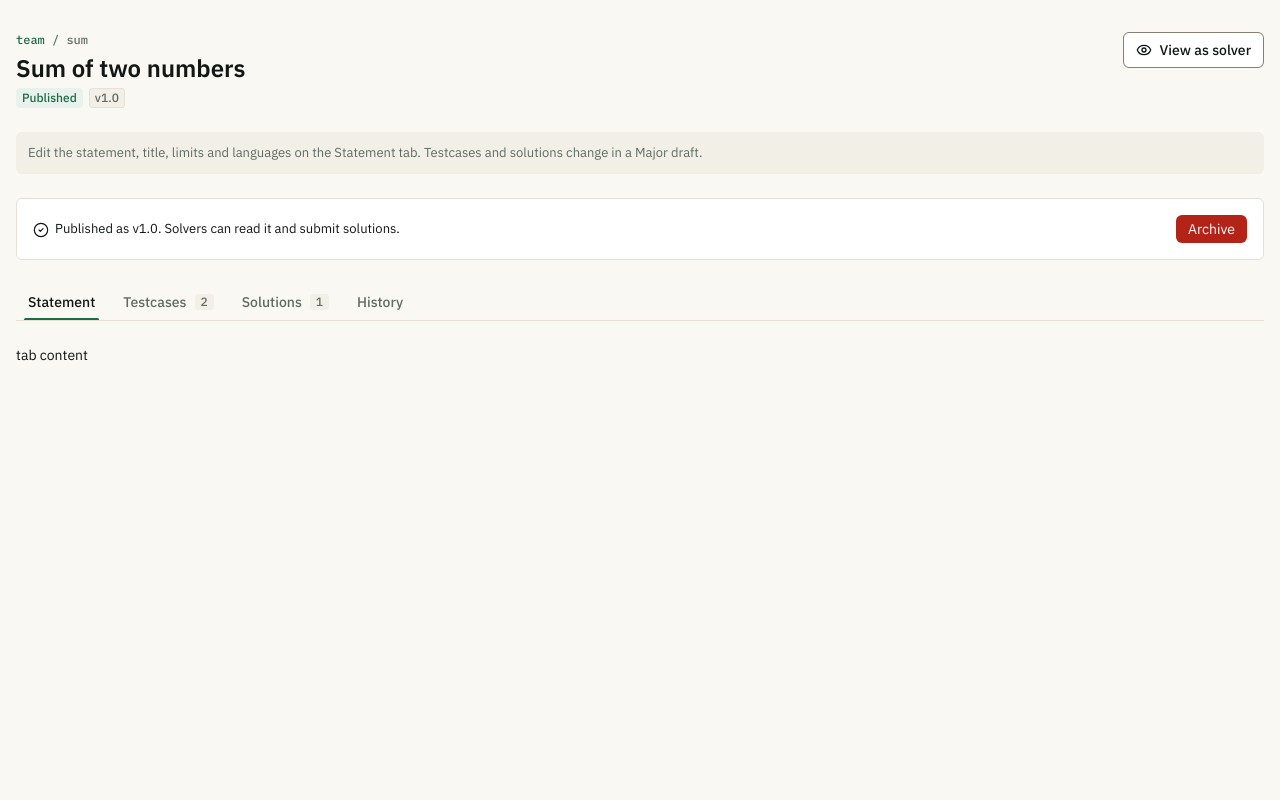
Test: publishing › archives a published problem after confirming
Step 1. Click the button "Archive" → (1212, 229), box [1176,215,1247,243]
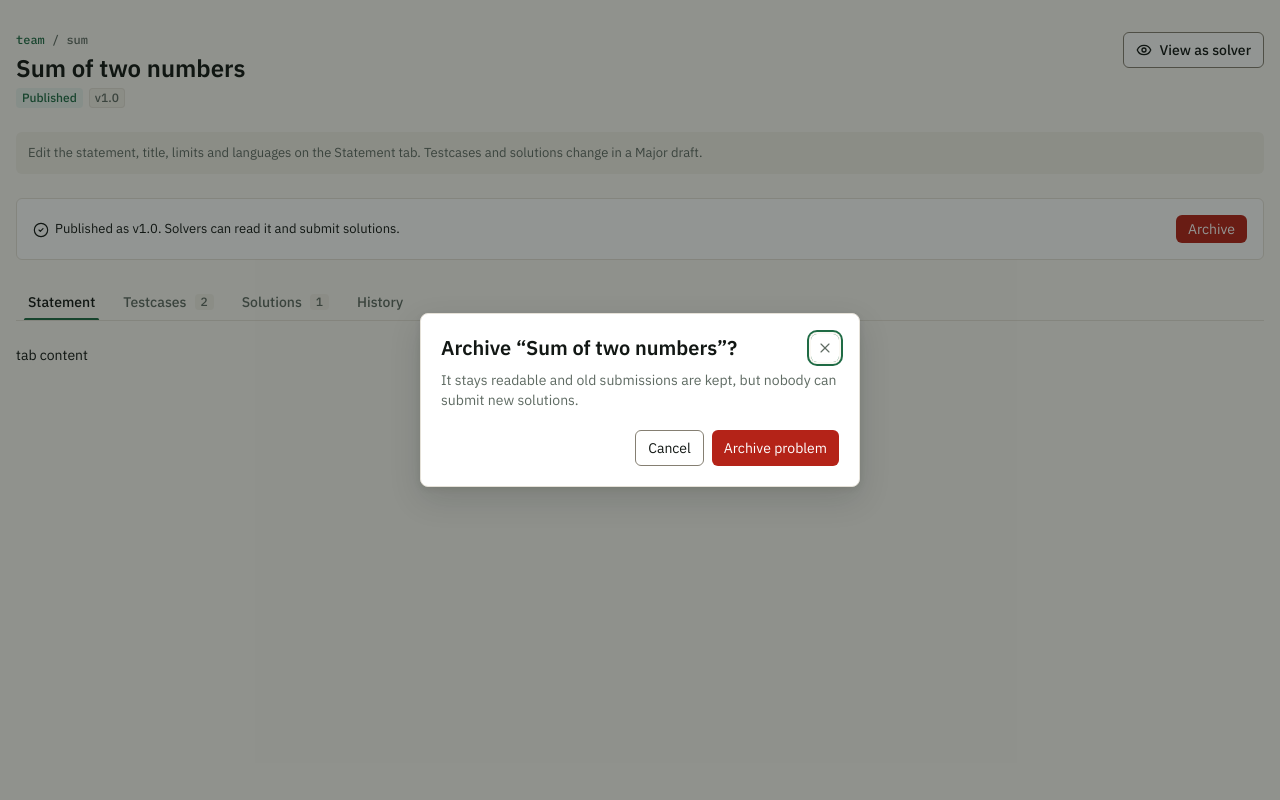
Expected: the text "nobody can submit new solutions" is shown, [441,371,836,409]
Step 2. Click the button "Archive problem" → (775, 448), box [712,430,839,466]
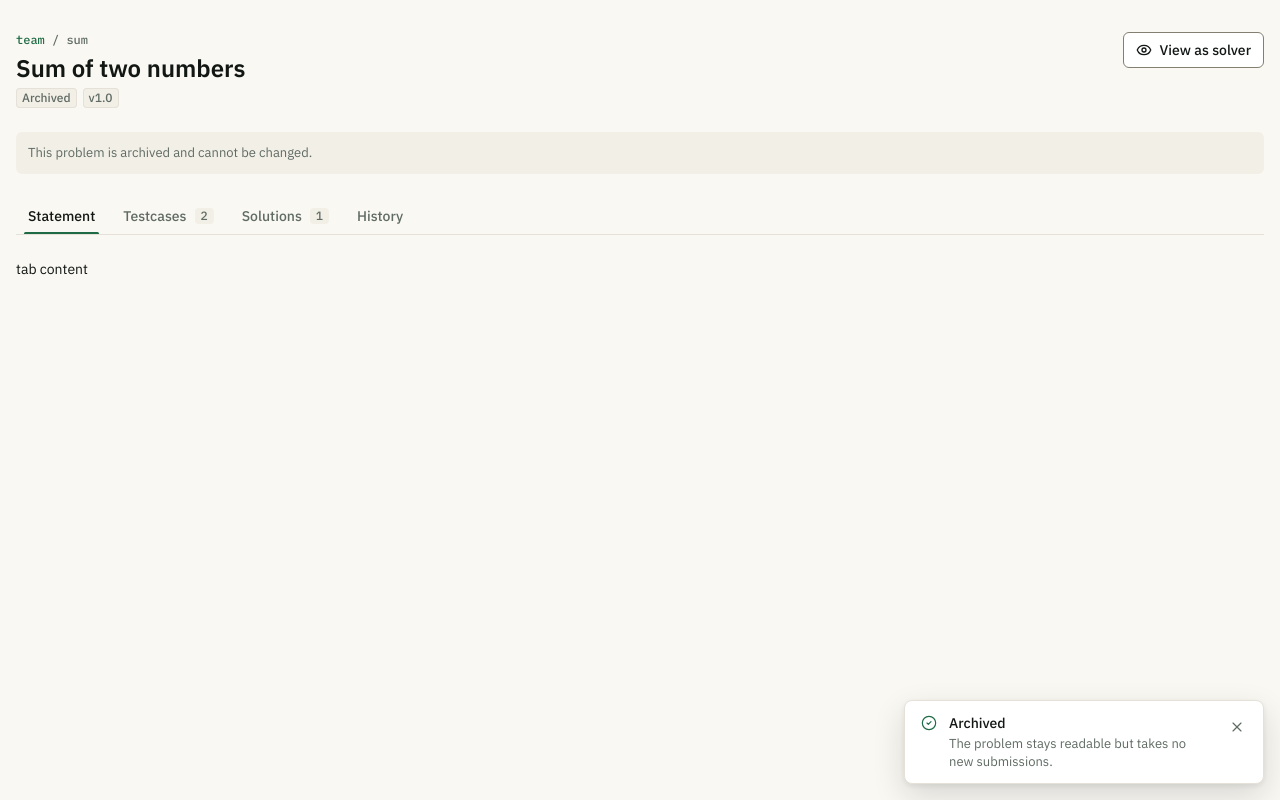
Expected: the text "Archived" next to "v1.0" is shown, [22,90,70,105]
